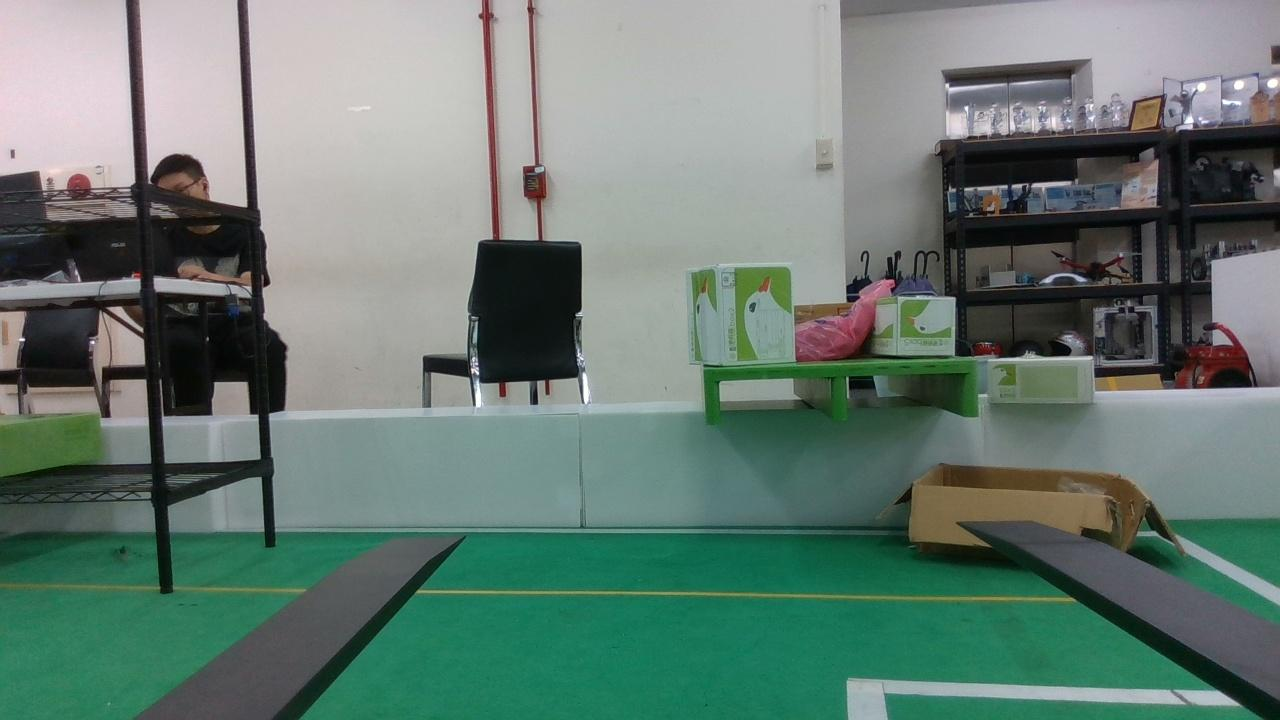Pallet: (704, 358, 979, 425)
